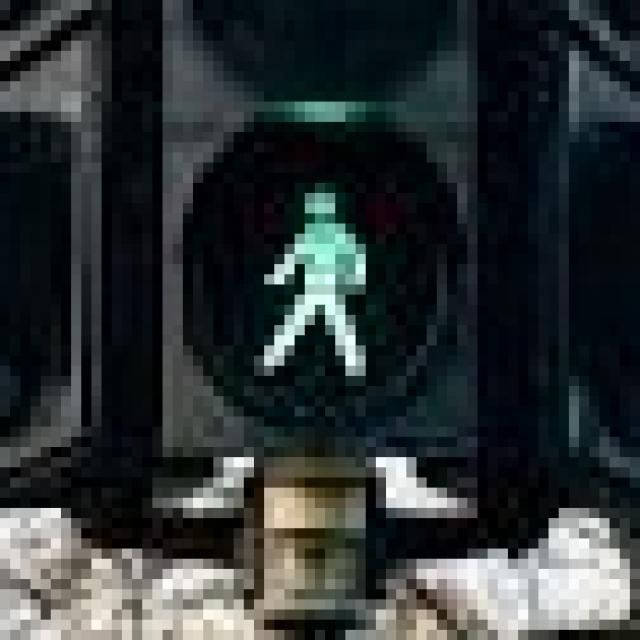green-light: (215, 143, 398, 397)
